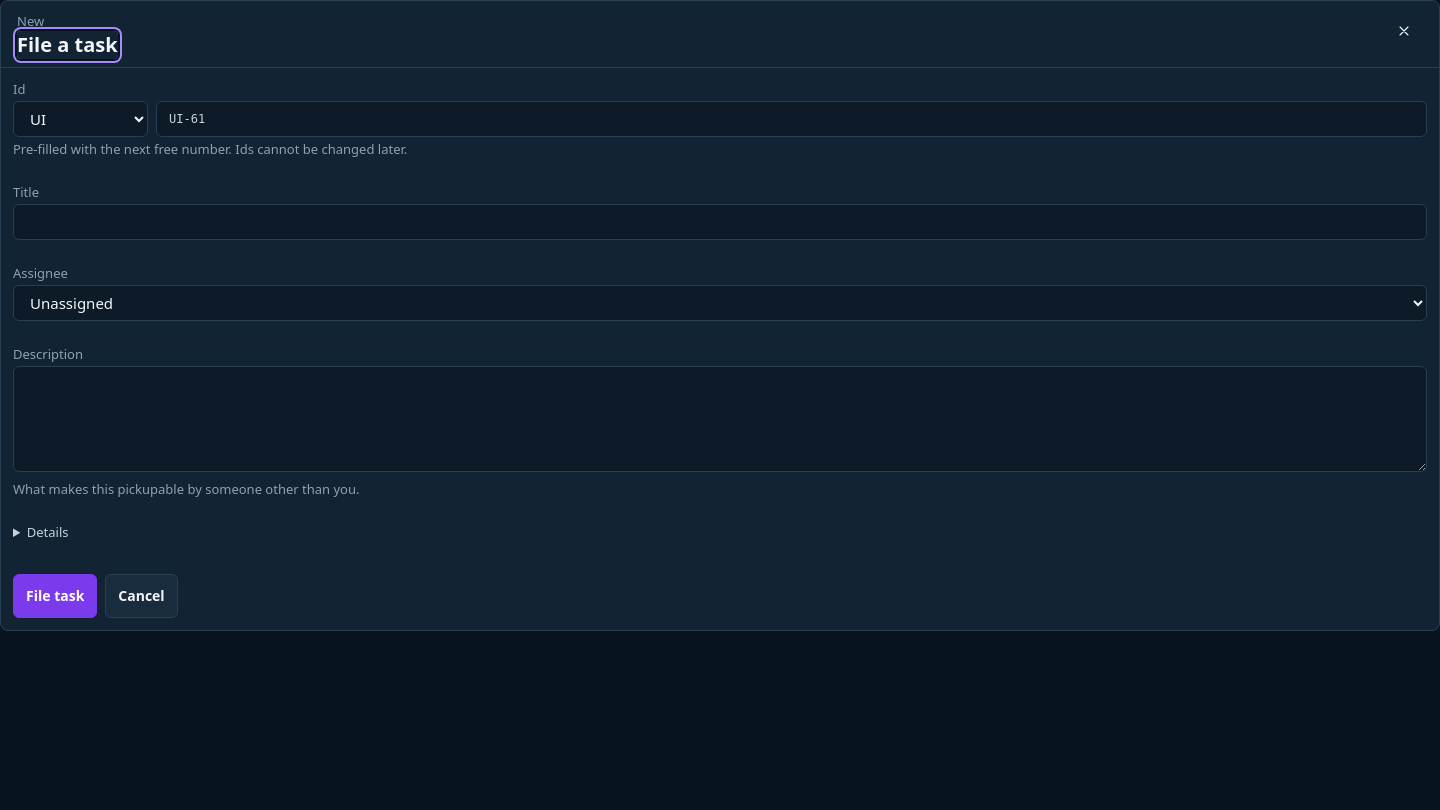
Test: TaskCreatePanel › keeps the draft and offers the next free number when the CLI refuses a duplicate
Type "kept" into the field labelled "Title" at (720, 222), box [13,204,1427,240]
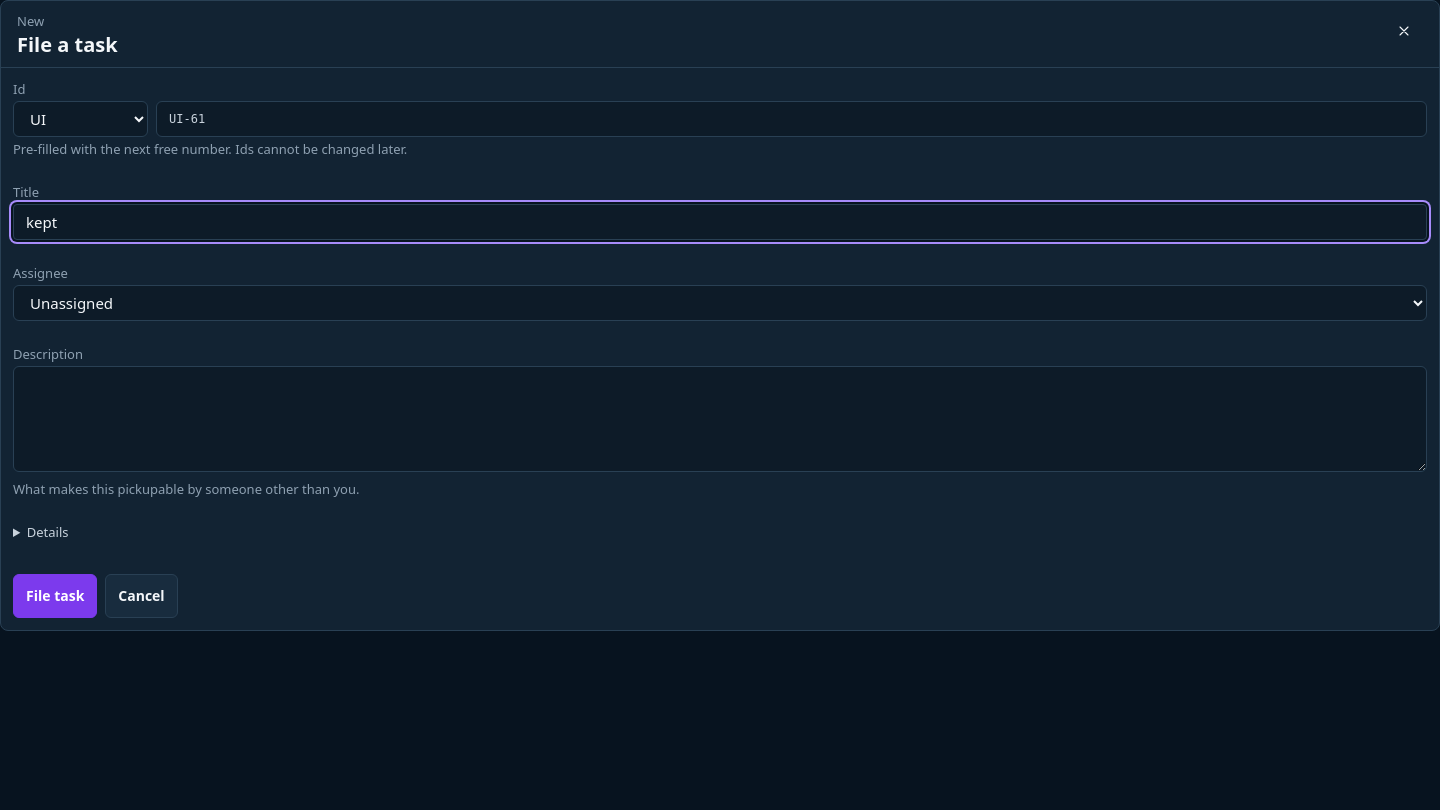
Click the button "File task" at (55, 596), box [13,574,97,618]
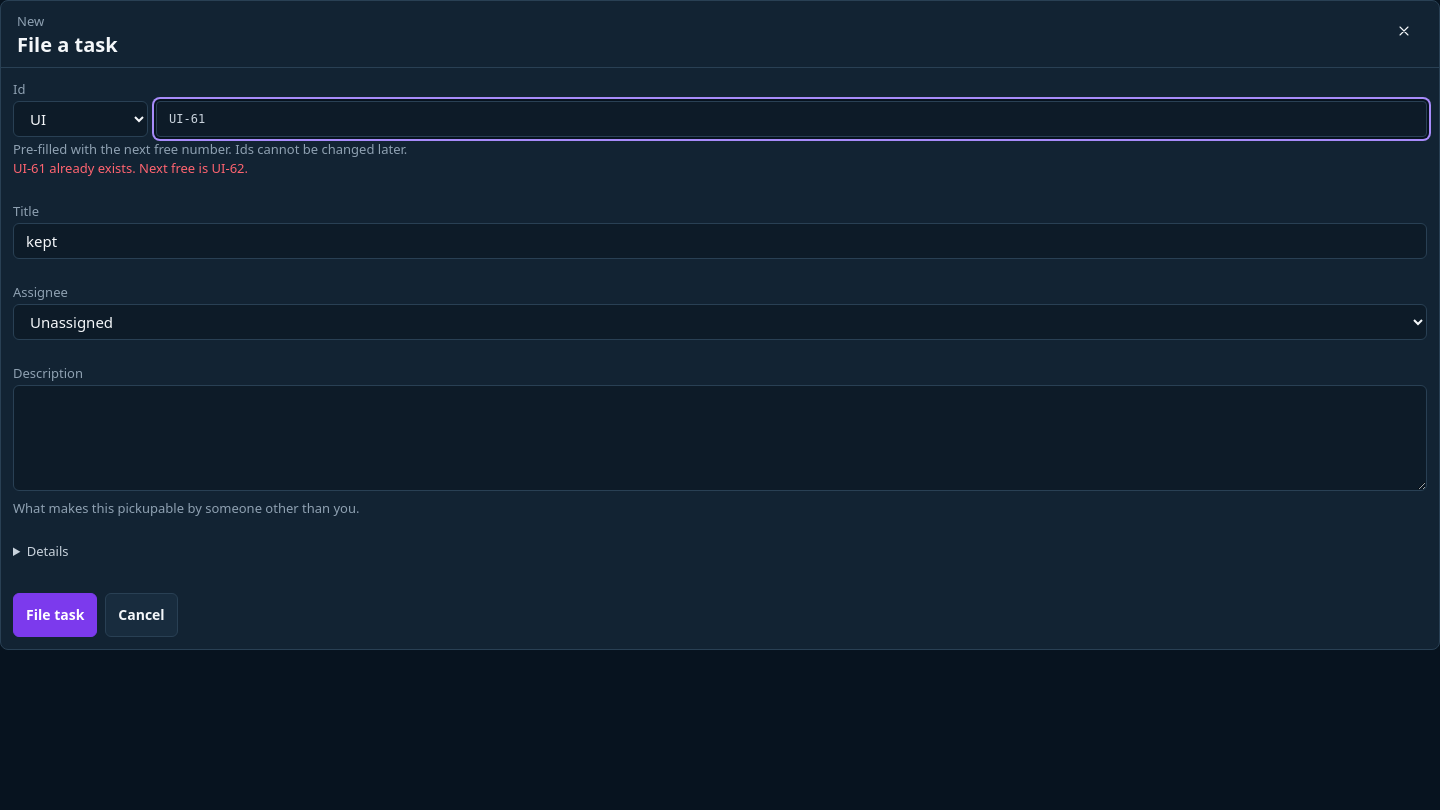
Result: the message reads "UI-61 already exists. Next free is UI-62." at [13,159,248,177]
